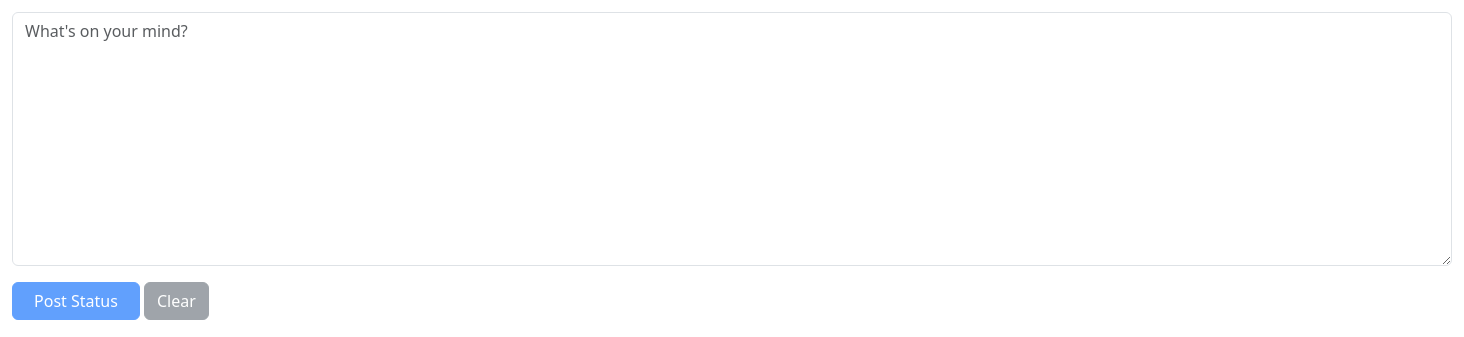
Test case: PostStatus › enables both buttons when the text field has text
Type "This is a test post!" into the text box with placeholder "What's on your mind?". click: point(732, 139)
box: [12,12,1452,266]
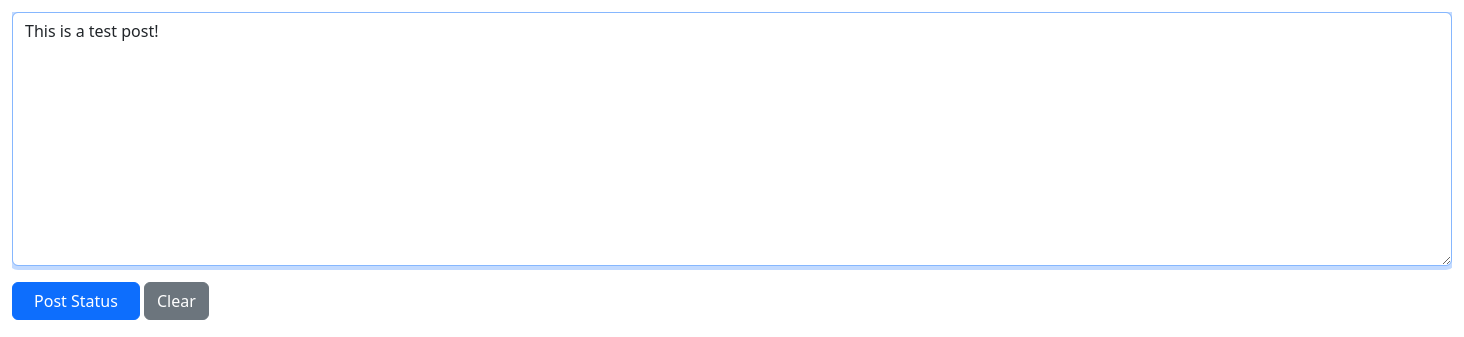
Expected: the button "Post Status" is enabled, [12,282,140,320]
Expected: the button "Clear" is enabled, [144,282,209,320]
